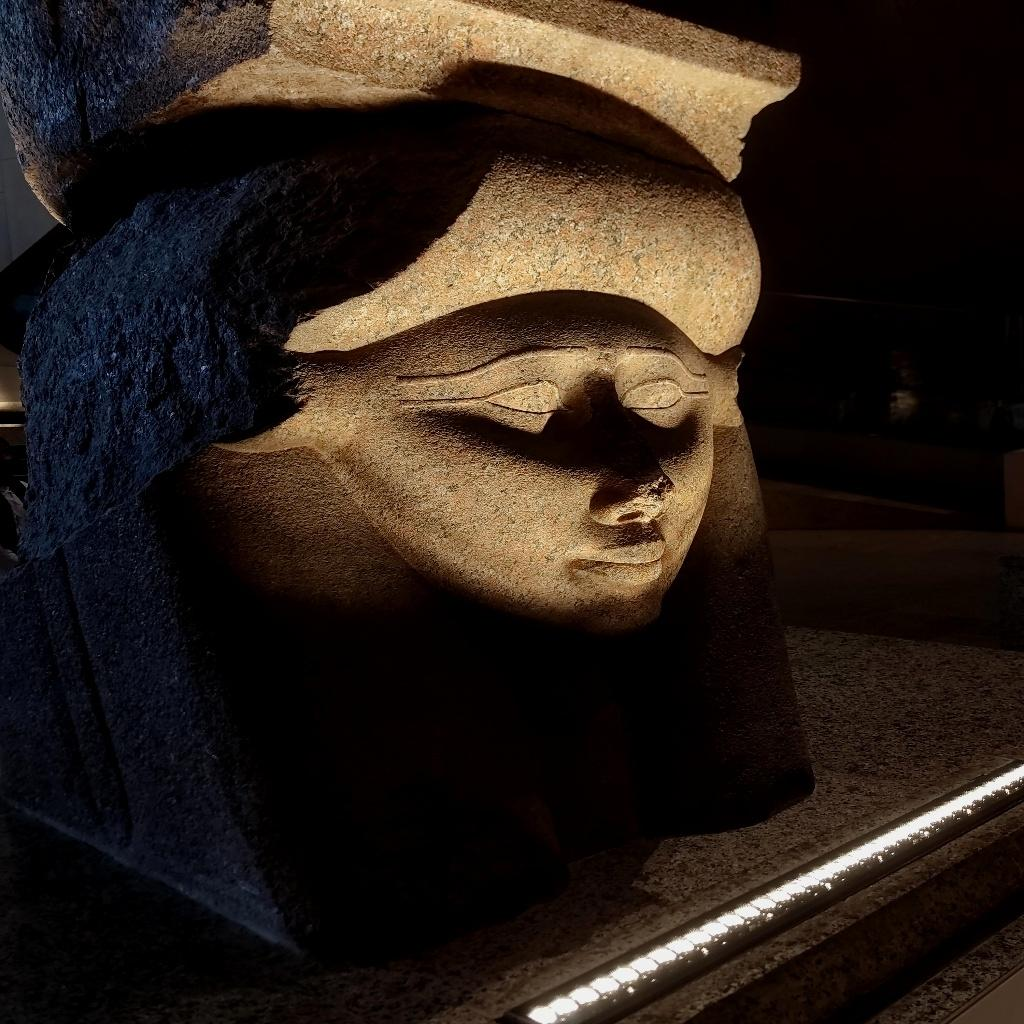Hathor Capital: (2, 2, 824, 969)
